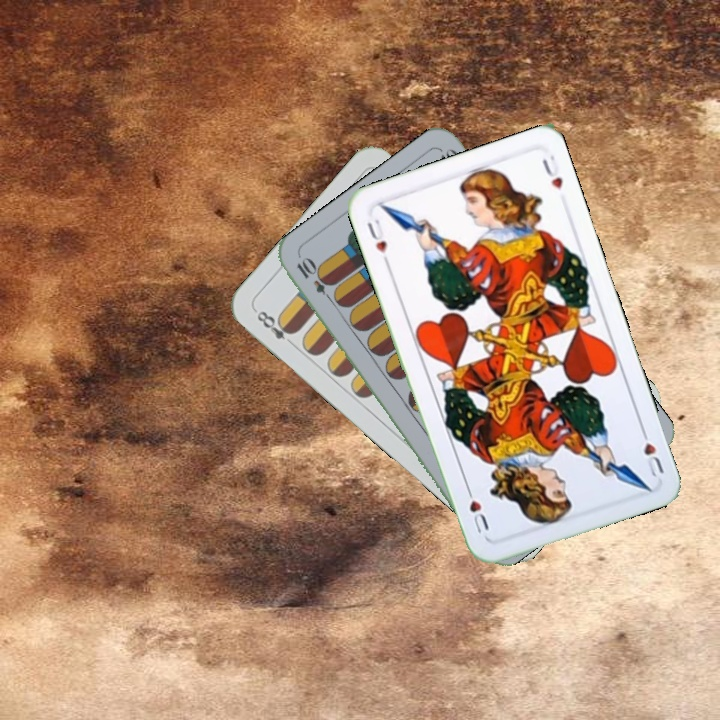E10: (292, 255, 338, 306)
E8: (252, 306, 299, 350)
HU: (637, 423, 667, 480), (363, 214, 392, 267)
